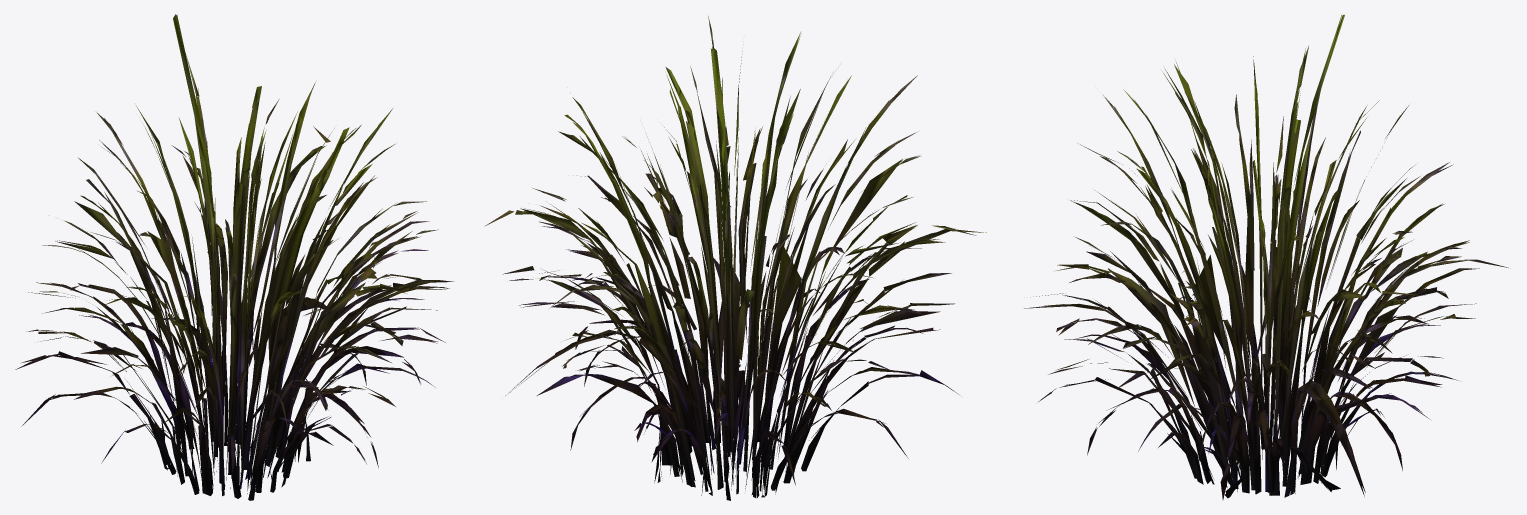
The model's file is vegetation.tall-grass-01.lod1.glb.
3 views of the same model, side by side, from view 1: azimuth 30°, elevation 25°; view 2: azimuth 150°, elevation 25°; view 3: azimuth 270°, elevation 25° (orthographic). The views are drawn at different scales.
Parts seen in each view (by area): view 1: vegetation.tall-grass-01_LOD1_00; view 2: vegetation.tall-grass-01_LOD1_00; view 3: vegetation.tall-grass-01_LOD1_00.
Part boxes in pixels (x1,y1,x2,y2): vegetation.tall-grass-01_LOD1_00: (15, 14, 453, 500); vegetation.tall-grass-01_LOD1_00: (485, 16, 986, 500); vegetation.tall-grass-01_LOD1_00: (1024, 14, 1508, 499).
Bounding box in the file's own units: 0.8117 × 0.9 × 0.8753.
Materials: 1 (1 with a texture image).
